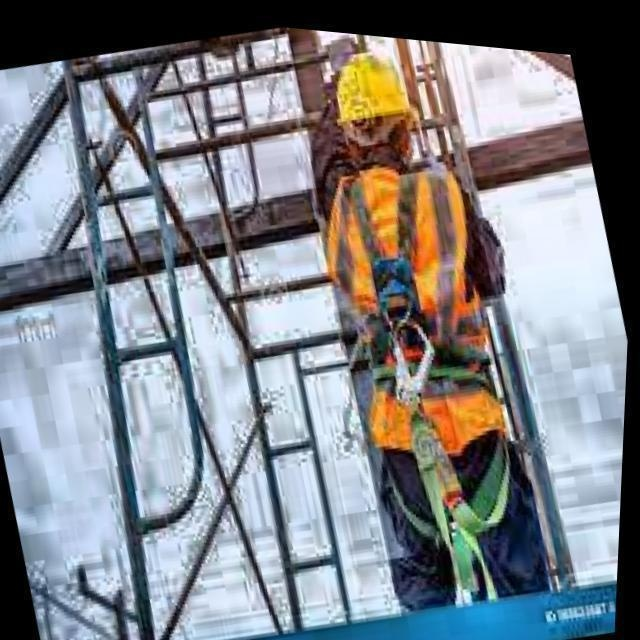Arnes_seguridad: (323, 165, 513, 512)
